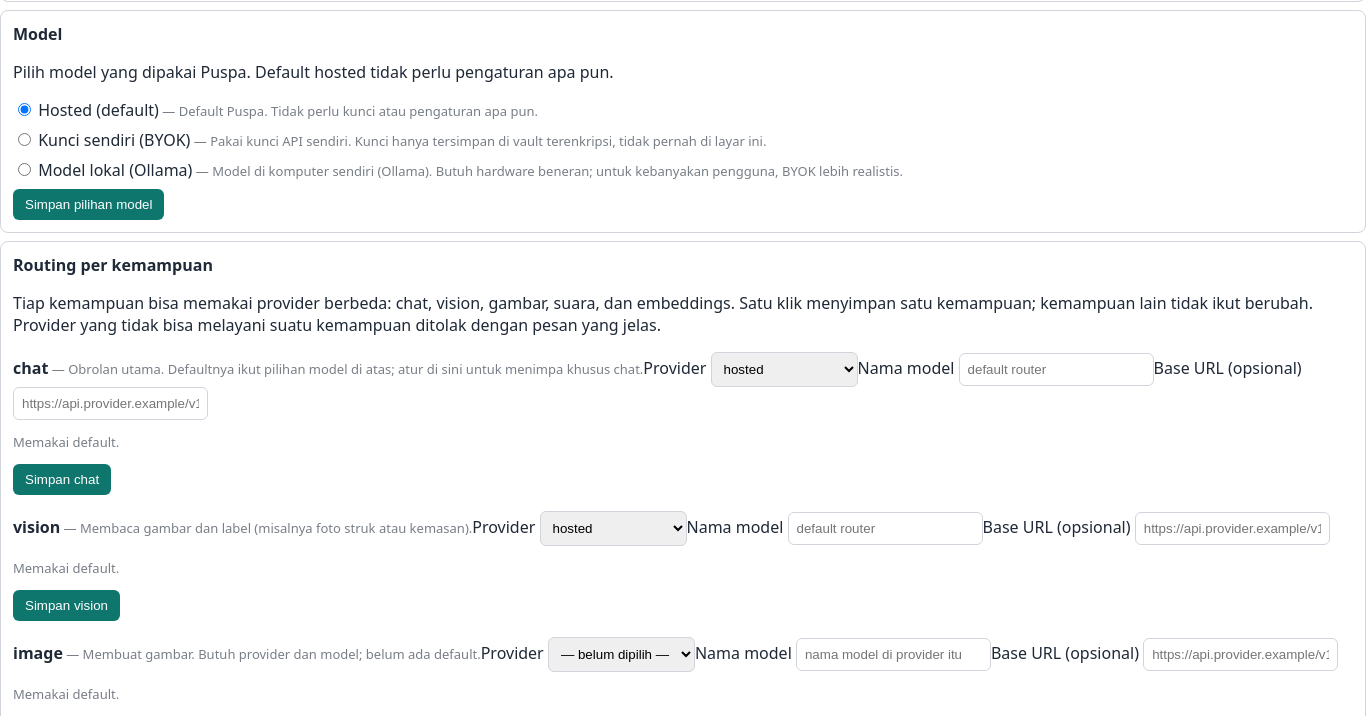
Test case: SettingsScreen per-capability routing › saves one capability with one click and leaves the others alone
(page scrolled)
Expected: the text "Routing per kemampuan" is shown, [13,254,213,276]
Expected: the button "Simpan chat" is enabled, [13,464,111,495]
Select "groq" in the 1st dropdown labelled "Provider" at (784, 369), box [710,352,858,387]
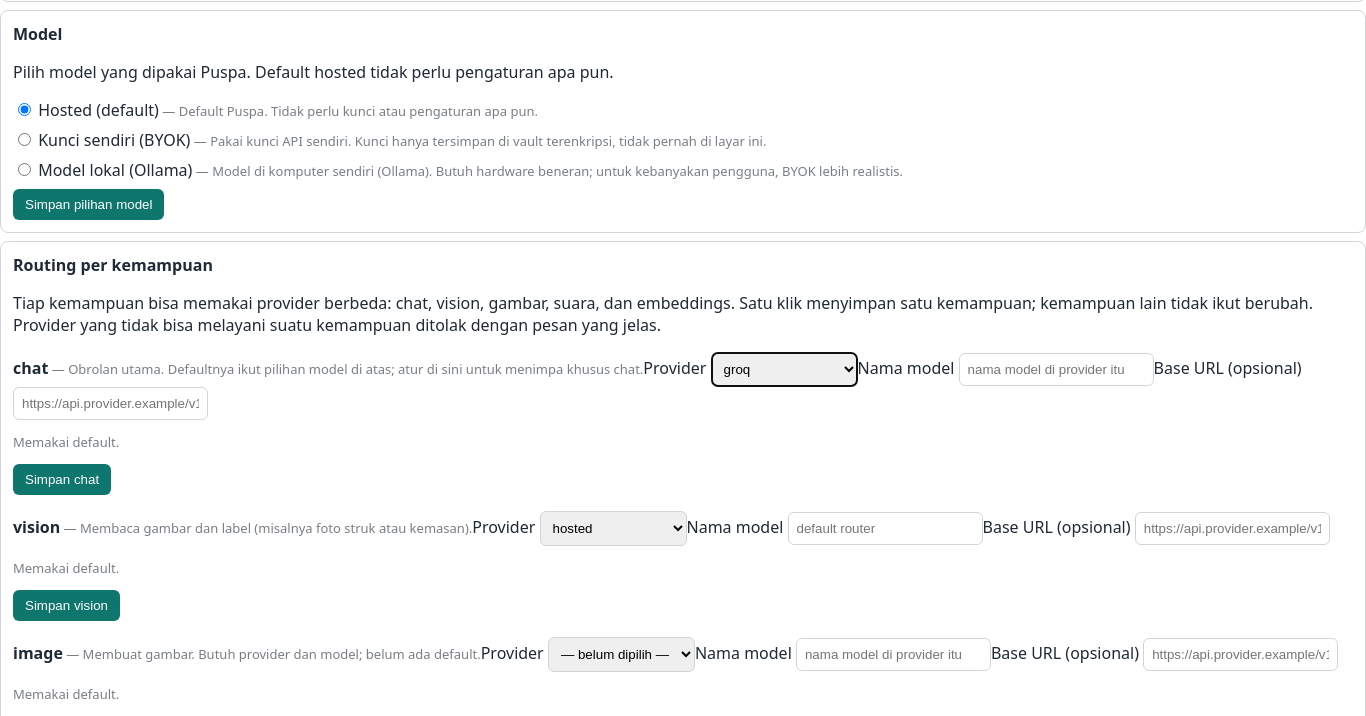
Type "llama-3.3-70b-versatile" into the 1st field with placeholder "nama model di provider itu" at (1056, 369), box [959,353,1154,386]
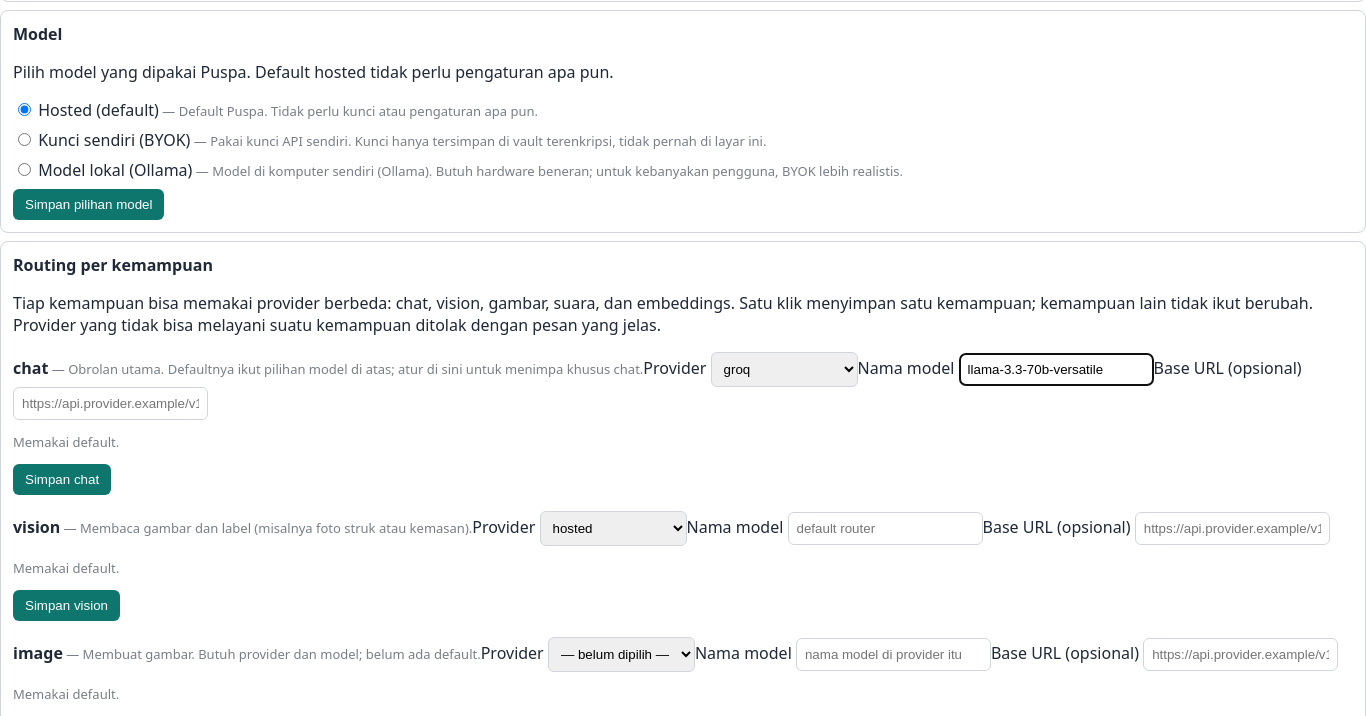
Click the button "Simpan chat" at (62, 479), box [13,464,111,495]
(page scrolled)
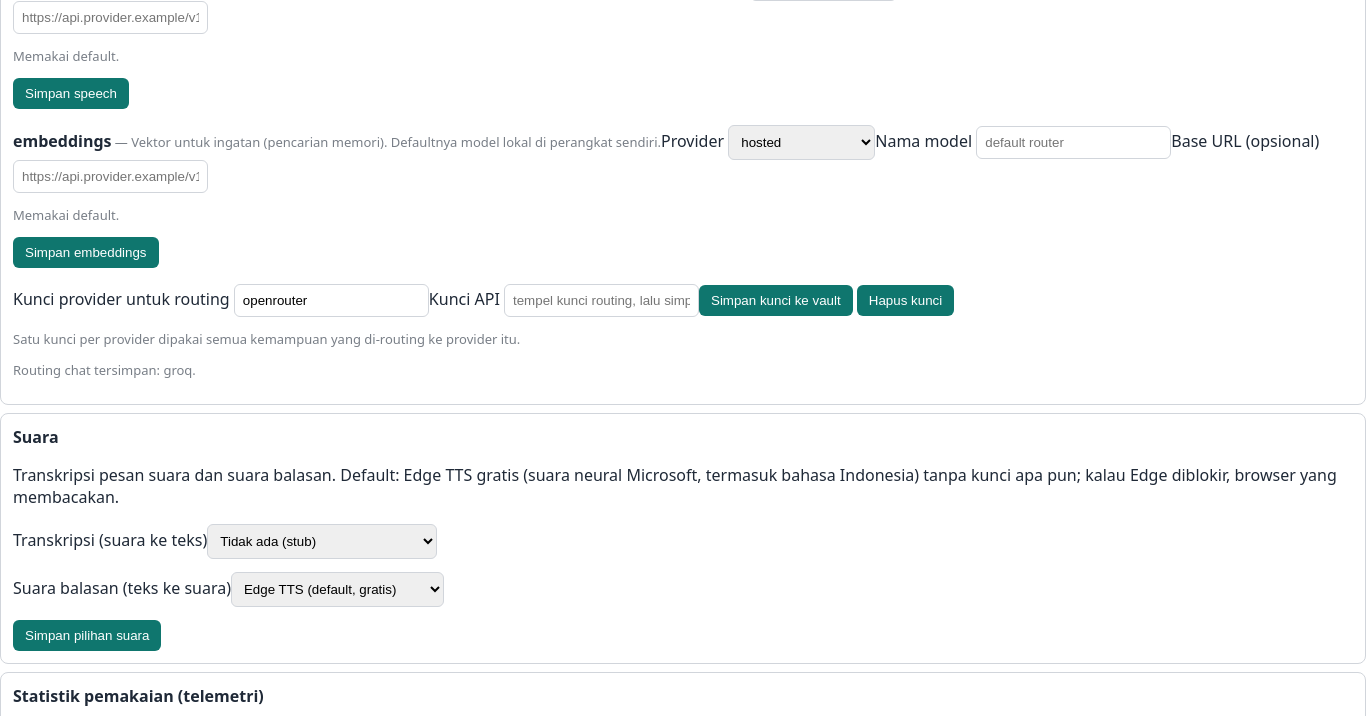
Result: the text "Routing chat tersimpan: groq." is shown at [13,361,196,379]
